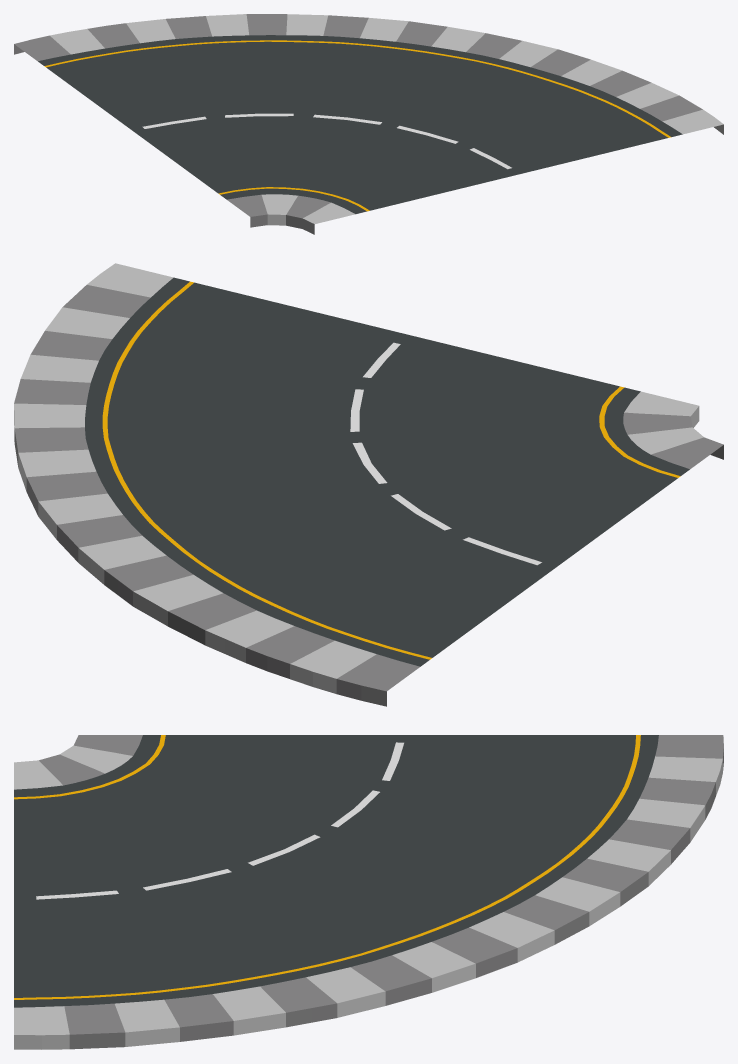
Rendered from SM_Road_03.FBX.
The picture shows the model from 3 angles, top to bottom: view 1: azimuth 30°, elevation 25°; view 2: azimuth 150°, elevation 25°; view 3: azimuth 270°, elevation 25°; orthographic projection. The views are drawn at different scales.
Visible parts, largest first — view 1: SM_Road_03; view 2: SM_Road_03; view 3: SM_Road_03.
Boxes of the visible parts, x1,y1,x2,y2 form: SM_Road_03: (14, 14, 723, 234); SM_Road_03: (14, 263, 723, 706); SM_Road_03: (14, 735, 723, 1049).
Size of what is drawn, in the model's own units: 1101 by 1101 by 25.
